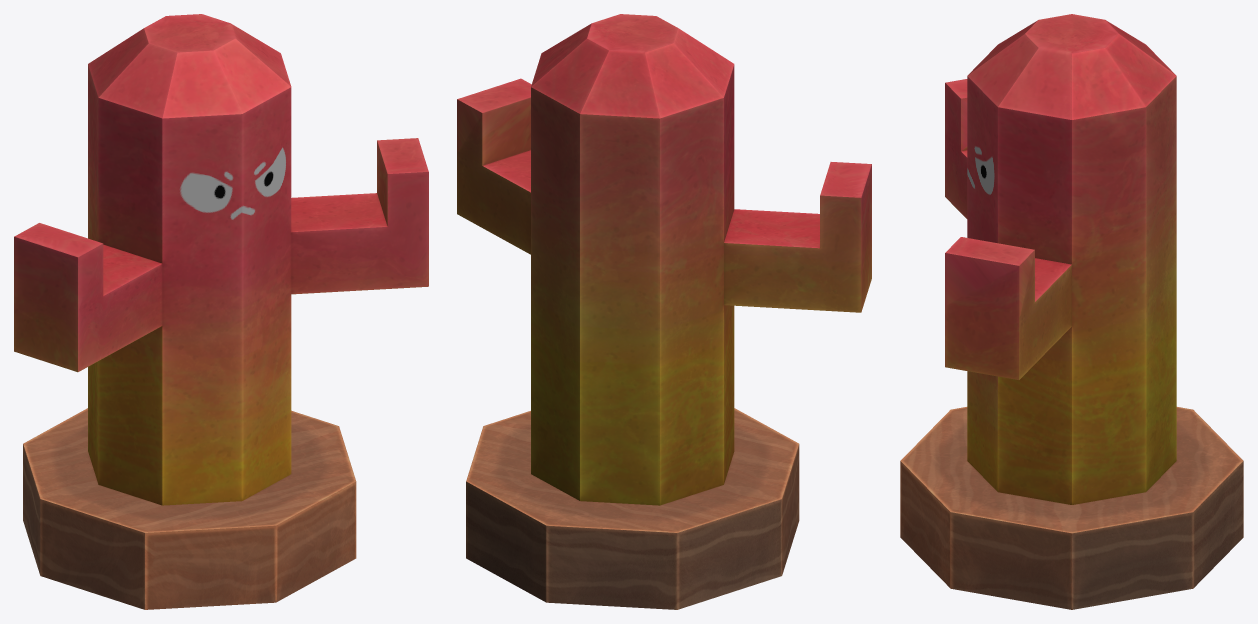
File: Totem_Feu.fbx
3 renders of one model, left to right at view 1: azimuth 30°, elevation 25°; view 2: azimuth 150°, elevation 25°; view 3: azimuth 270°, elevation 25°, orthographic.
Parts seen in each view (by area): view 1: totem_fire; view 2: totem_fire; view 3: totem_fire.
Boxes of the visible parts, box(x1,y1,x2,y2) form: totem_fire: box(14, 14, 428, 609); totem_fire: box(457, 14, 871, 609); totem_fire: box(900, 14, 1243, 609).
Bounding box in the file's own units: 281 × 336 × 208.
Materials: 1 (1 with a texture image).
